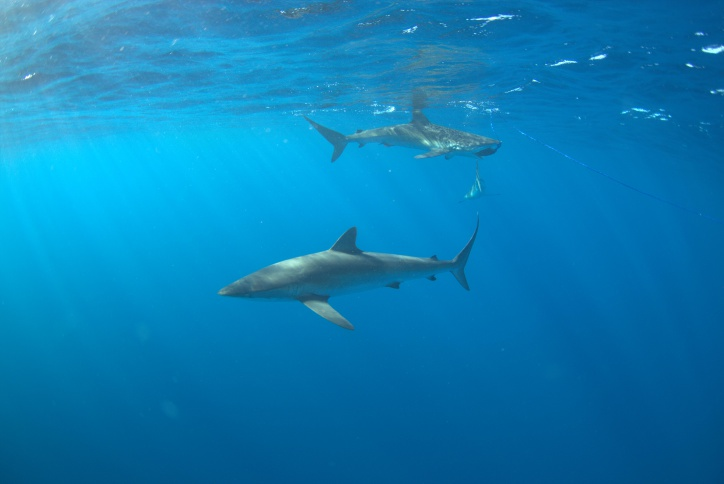Sedoso: (278, 95, 516, 170)
